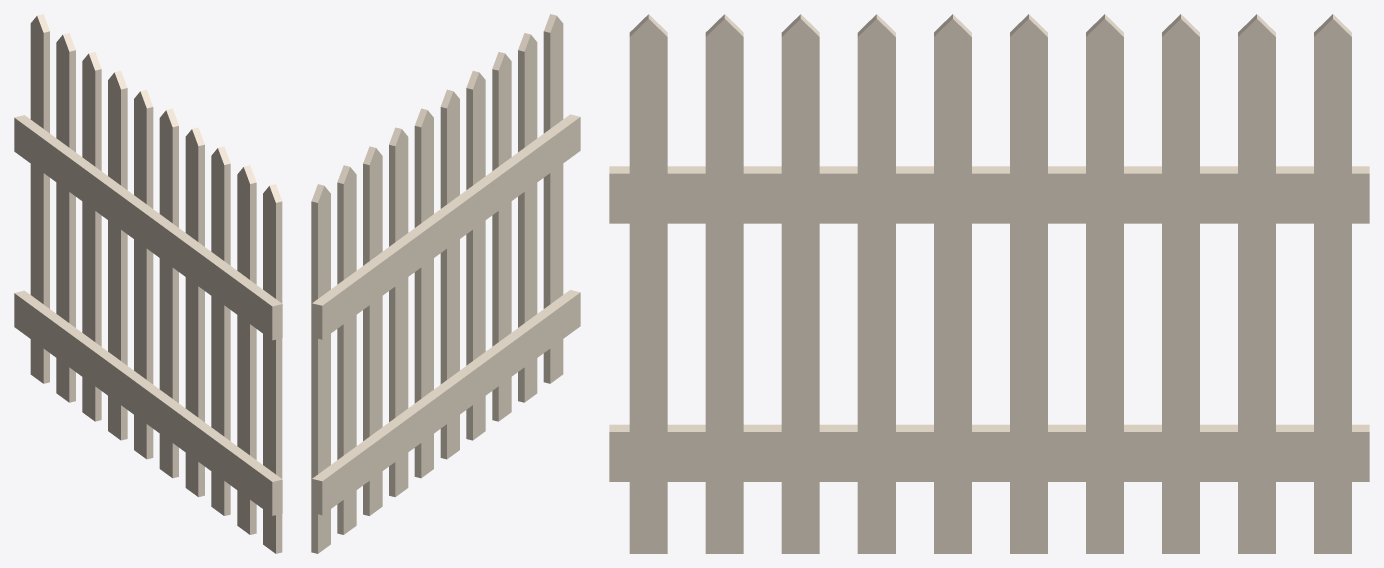
The model's file is picket_fence.glb.
3 views of the same model, side by side, from view 1: azimuth 30°, elevation 25°; view 2: azimuth 150°, elevation 25°; view 3: azimuth 270°, elevation 25° (orthographic). The views are drawn at different scales.
Parts seen in each view (by area): view 1: picket_fence; view 2: picket_fence; view 3: picket_fence.
Boxes of the visible parts, box(x1,y1,x2,y2) form: picket_fence: box(14, 14, 282, 553); picket_fence: box(311, 14, 580, 553); picket_fence: box(609, 14, 1369, 553).
Size of what is drawn, in the model's own units: 0.0757 by 1.55 by 2.
